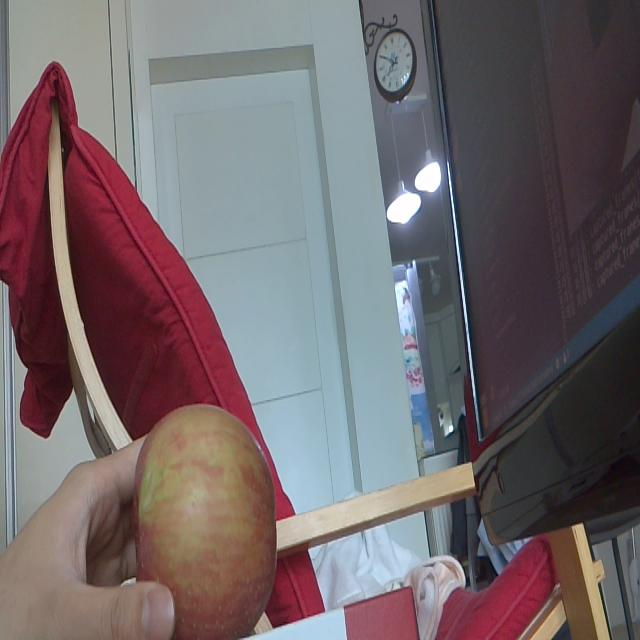apple: (131, 393, 280, 640)
